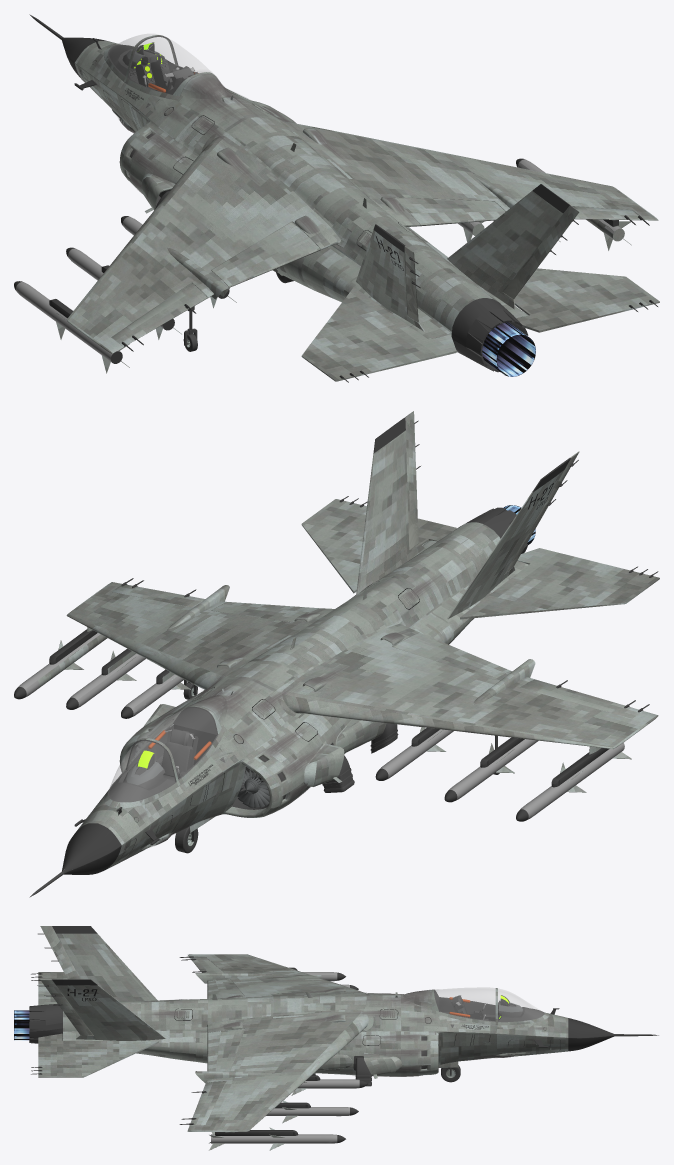
The model's file is jetwithengine.gltf.
3 views of the same model, one above another, from view 1: azimuth 30°, elevation 25°; view 2: azimuth 150°, elevation 25°; view 3: azimuth 270°, elevation 25° (orthographic). The views are drawn at different scales.
Parts seen in each view (by area): view 1: HydraHull, HydraSteaks, Cylinder; view 2: HydraHull, HydraSteaks; view 3: HydraHull, HydraSteaks, Cylinder.
Boxes of the visible parts, bbox=[...] form: HydraHull: bbox=[14, 14, 659, 382]; HydraSteaks: bbox=[91, 60, 439, 254]; Cylinder: bbox=[482, 322, 535, 376]; HydraHull: bbox=[14, 411, 659, 897]; HydraSteaks: bbox=[94, 572, 444, 845]; HydraHull: bbox=[29, 926, 658, 1150]; HydraSteaks: bbox=[138, 988, 546, 1076]; Cylinder: bbox=[14, 1010, 29, 1040].
Size of what is drawn, in the model's own units: 11.22 by 3.79 by 17.28.
